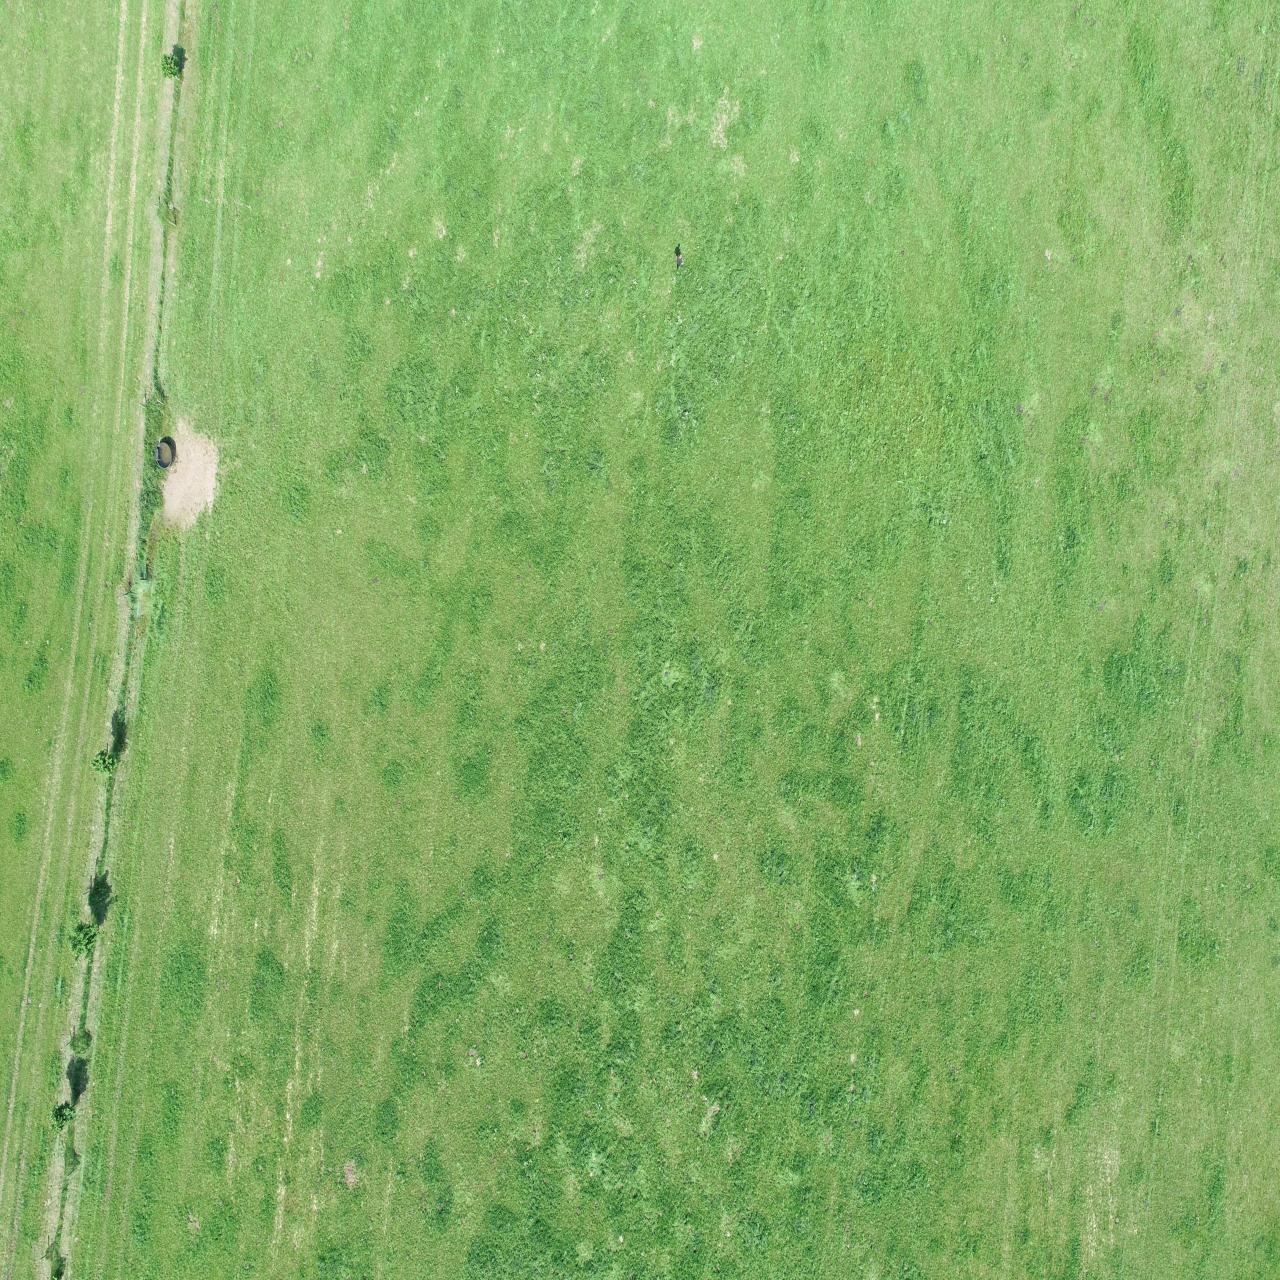cow: (792, 973, 825, 1040), (738, 983, 779, 1029), (257, 853, 305, 885), (838, 930, 867, 979), (679, 996, 702, 1055), (2, 1150, 50, 1177), (794, 837, 815, 898), (322, 921, 370, 947)
